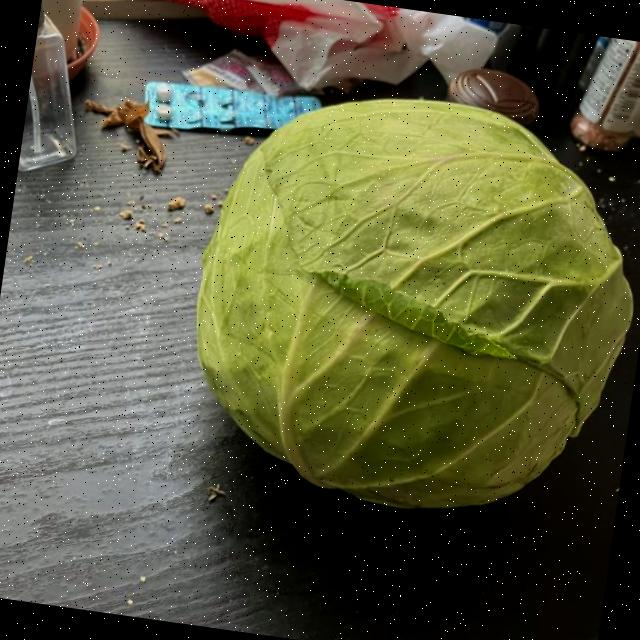cabbage: (166, 66, 640, 541)
